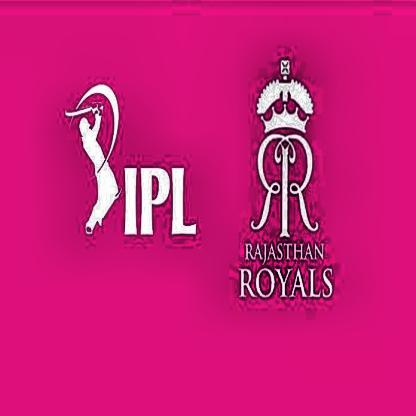IPL: (65, 81, 123, 238), (122, 164, 196, 240)
Rajasthan Royals: (236, 56, 338, 301)
